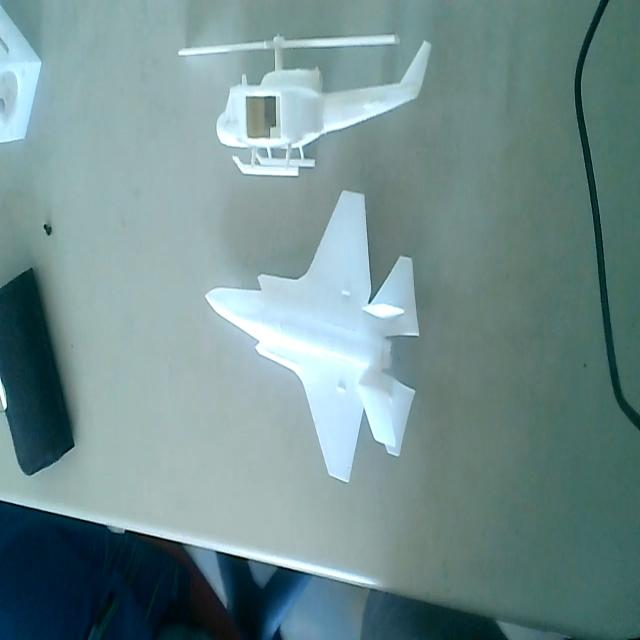Helicopter: (174, 34, 430, 180)
Jet: (207, 189, 418, 483)
